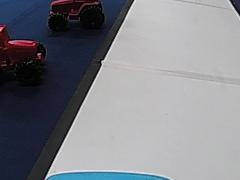Tracktor: (0, 25, 48, 84), (45, 0, 106, 31)
